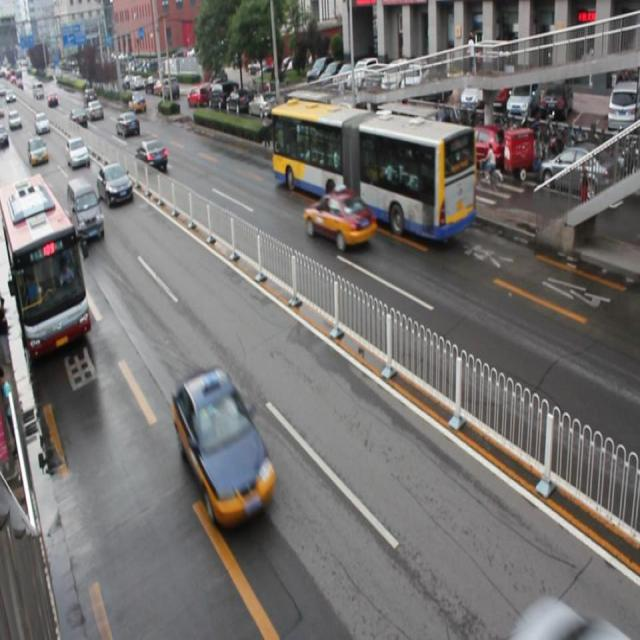car: (173, 365, 276, 535), (302, 185, 377, 252), (98, 161, 134, 206), (135, 138, 168, 170), (115, 113, 140, 135)
truck: (68, 176, 104, 242)
van: (269, 96, 476, 244), (0, 176, 90, 361)
